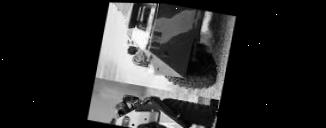tank: (93, 2, 236, 99), (85, 85, 219, 128)
